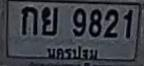1: (123, 9, 132, 37)
2: (103, 8, 117, 37)
8: (88, 8, 101, 36)
9: (72, 7, 85, 35)
A01: (21, 6, 37, 34)
A34: (41, 6, 57, 35)
NPT: (45, 45, 100, 61)
